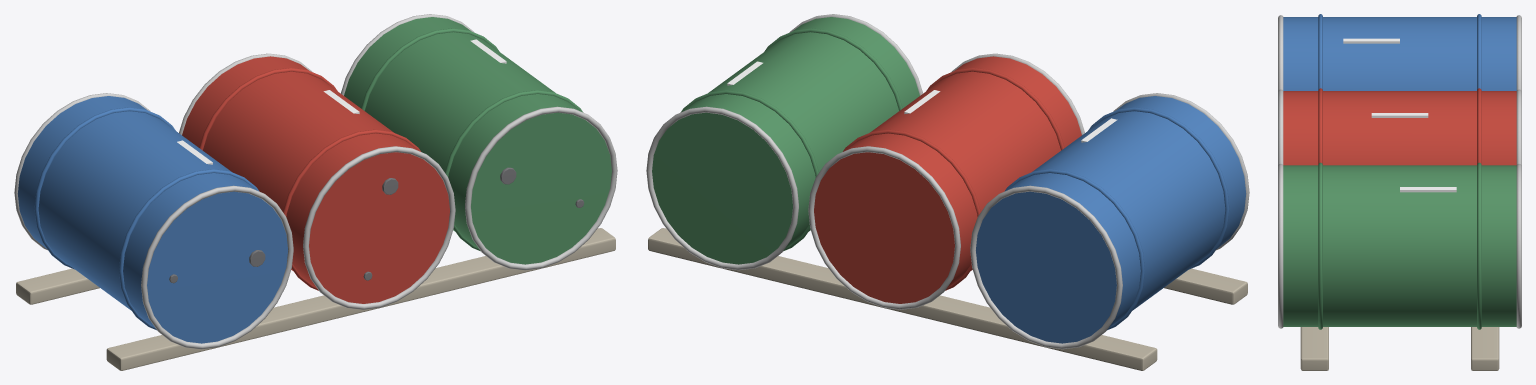
File: industrial.yard.barrels.glb
The picture shows the model from 3 angles, left to right: view 1: azimuth 30°, elevation 25°; view 2: azimuth 150°, elevation 25°; view 3: azimuth 270°, elevation 25°; orthographic projection. The views are drawn at different scales.
Visible parts, largest first — view 1: main__paint_58b, main__paint_c44, main__paint_596, main__galv_ccc, main__paint_cba, main__steel_777, main__paint_fff; view 2: main__paint_58b, main__paint_c44, main__paint_596, main__galv_ccc, main__paint_cba, main__paint_fff; view 3: main__paint_596, main__paint_c44, main__paint_58b, main__galv_ccc, main__paint_cba, main__paint_fff.
Boxes of the visible parts, x1,y1,x2,y2 form: main__paint_58b: (17,96,287,343); main__paint_c44: (182,56,449,303); main__paint_596: (344,17,611,264); main__galv_ccc: (14,14,617,349); main__paint_cba: (16,228,615,370); main__steel_777: (169,167,584,283); main__paint_fff: (177,39,506,164); main__paint_58b: (976,96,1246,343); main__paint_c44: (814,56,1081,303); main__paint_596: (652,17,919,264); main__galv_ccc: (646,14,1249,349); main__paint_cba: (648,228,1247,370); main__paint_fff: (727,61,1117,142); main__paint_596: (1283,162,1516,329); main__paint_c44: (1283,88,1516,165); main__paint_58b: (1283,14,1516,90); main__galv_ccc: (1278,15,1521,328); main__paint_cba: (1300,327,1499,370); main__paint_fff: (1343,38,1456,192).
Size of the model in its own units: 1.9 by 0.63 by 0.86.
